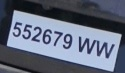2: (31, 26, 41, 42)
5: (22, 24, 32, 40), (13, 21, 21, 37)
6: (42, 28, 53, 45)
7: (53, 30, 63, 47)
9: (62, 32, 73, 49)
w: (96, 40, 116, 59), (78, 36, 96, 55)
